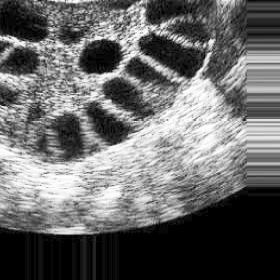PCOS: (141, 32, 207, 80), (120, 58, 182, 95), (102, 77, 152, 122), (82, 104, 134, 146), (75, 34, 123, 78), (0, 2, 50, 44), (50, 112, 84, 162), (143, 0, 199, 27), (0, 45, 42, 79), (166, 17, 212, 46), (57, 22, 92, 47), (0, 80, 21, 112), (34, 131, 54, 157), (0, 38, 11, 57)
